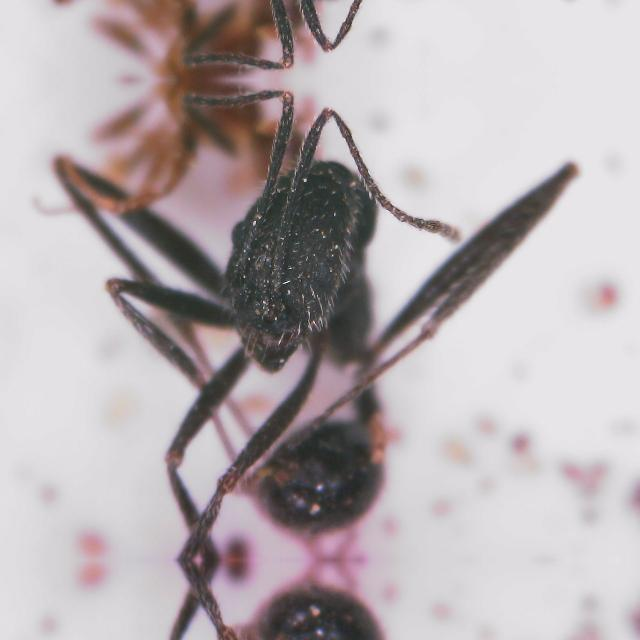Apheanogaster: (41, 82, 472, 538)
